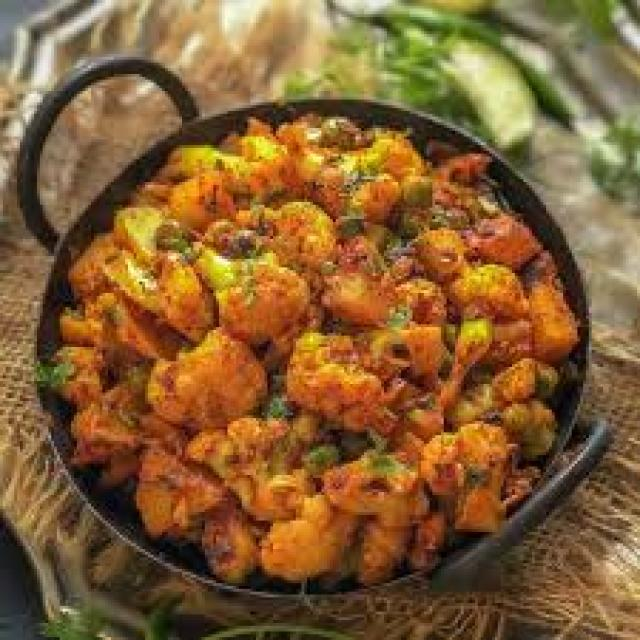Aloo Gobi: (64, 113, 444, 565)
